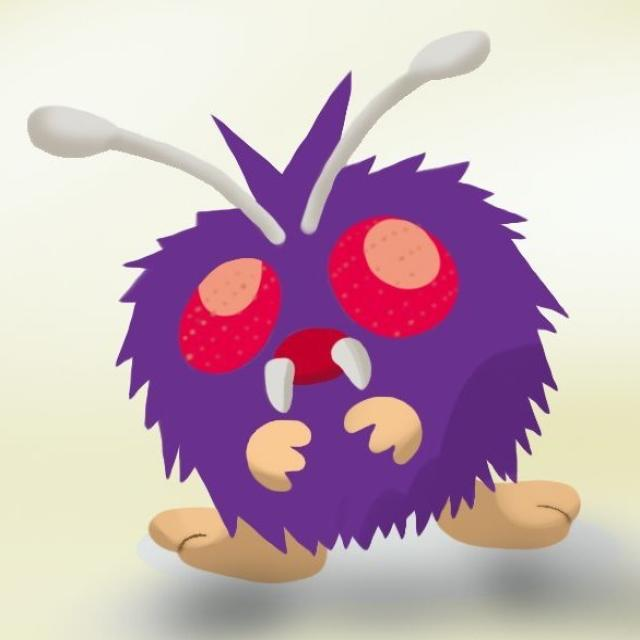Venonat: (114, 137, 566, 587)
